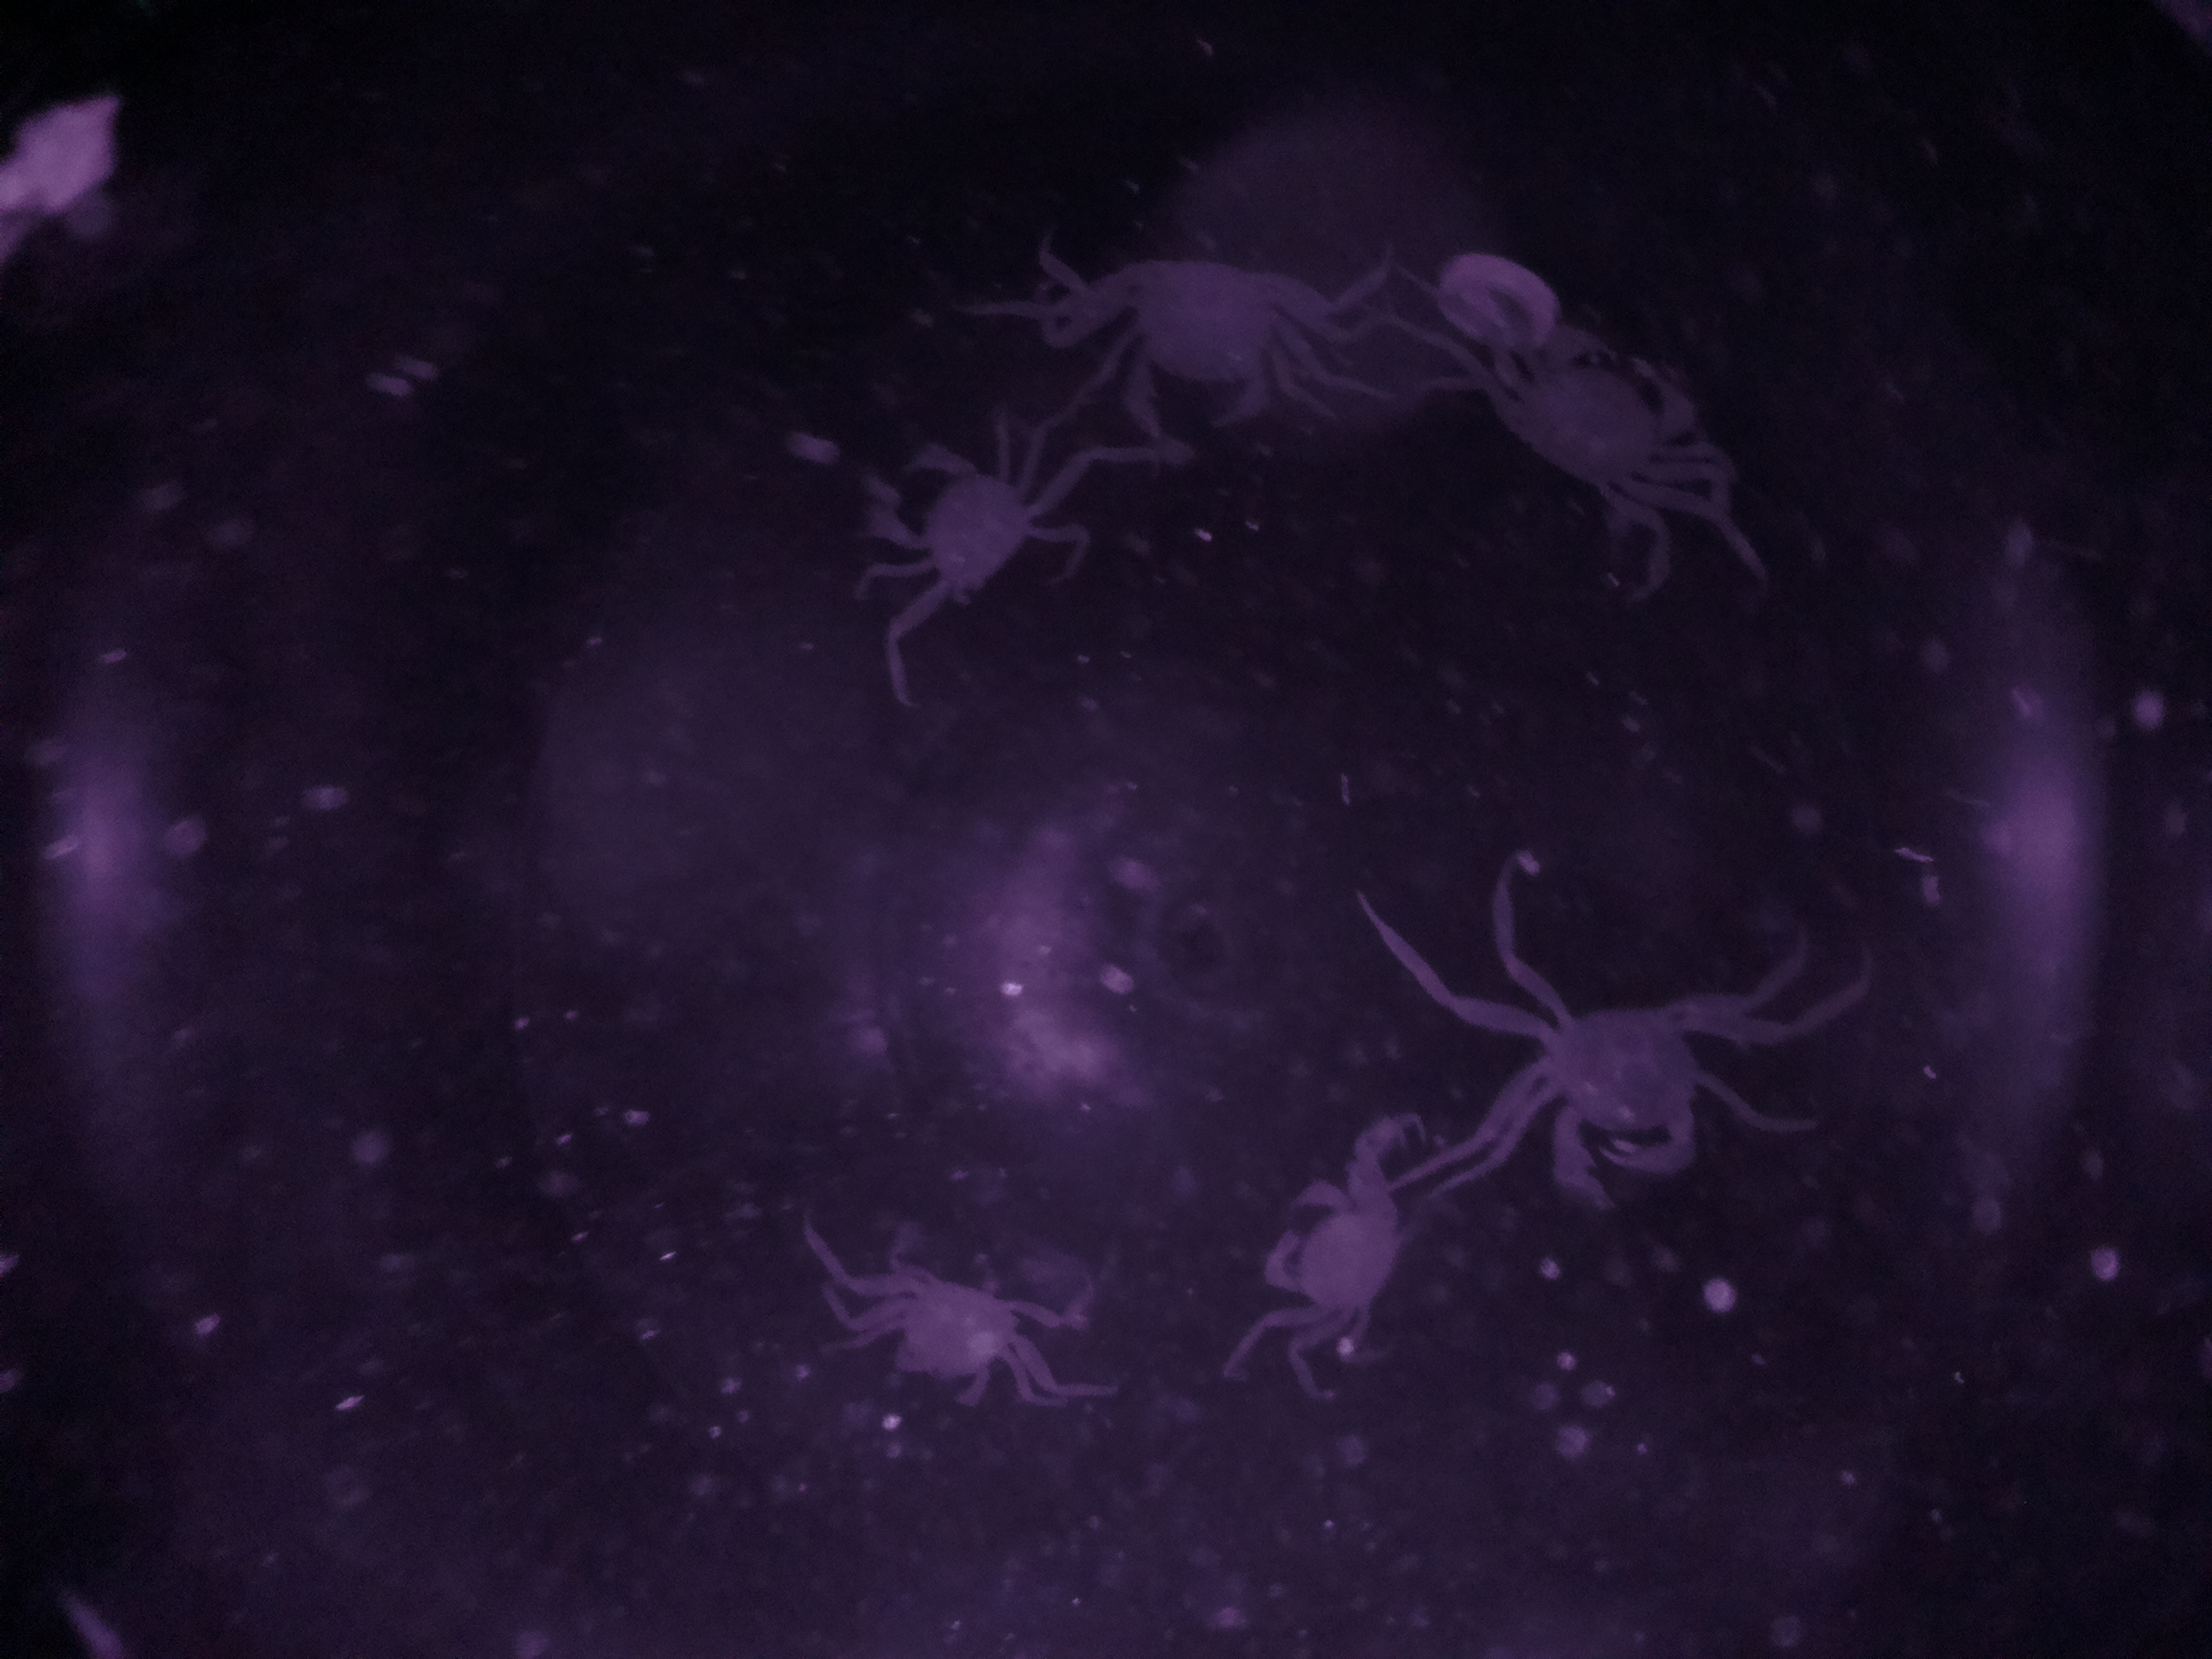Crab: (1475, 965, 1764, 1223), (1064, 242, 1372, 462), (1439, 312, 1721, 537), (815, 1239, 1090, 1439), (857, 436, 1115, 645), (1247, 1164, 1442, 1371)
